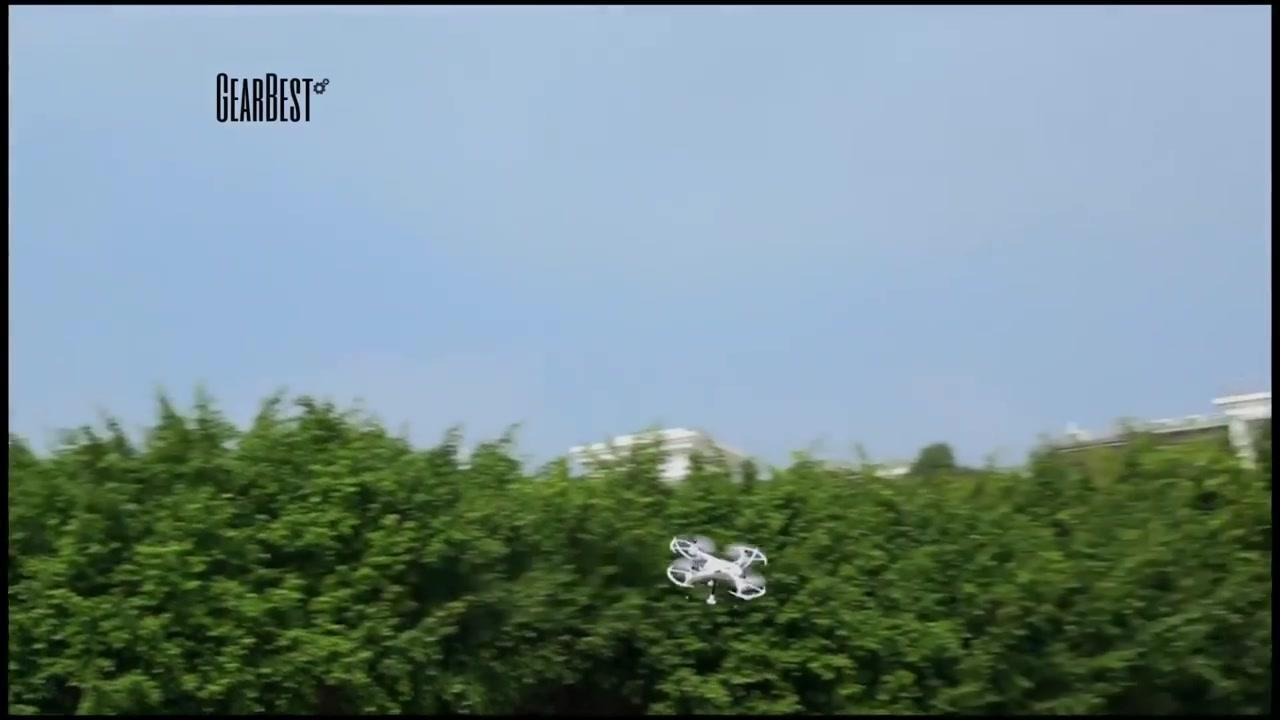UAV: (667, 537, 768, 605)
